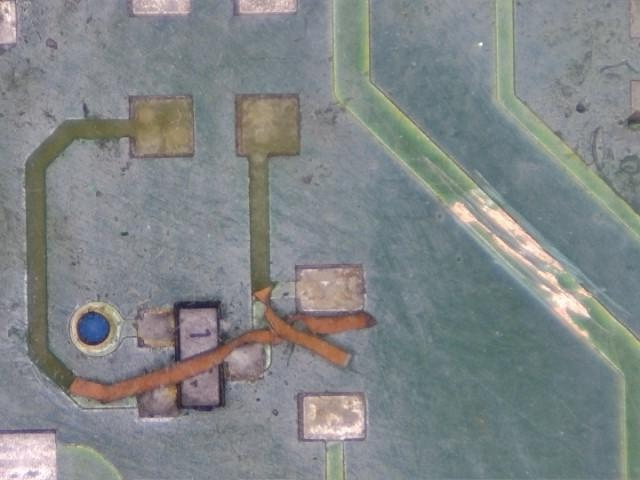pcb_defect: (25, 94, 379, 404), (236, 93, 351, 368), (483, 206, 564, 270), (538, 272, 590, 337), (494, 235, 532, 265), (454, 202, 491, 232), (580, 288, 592, 297)
